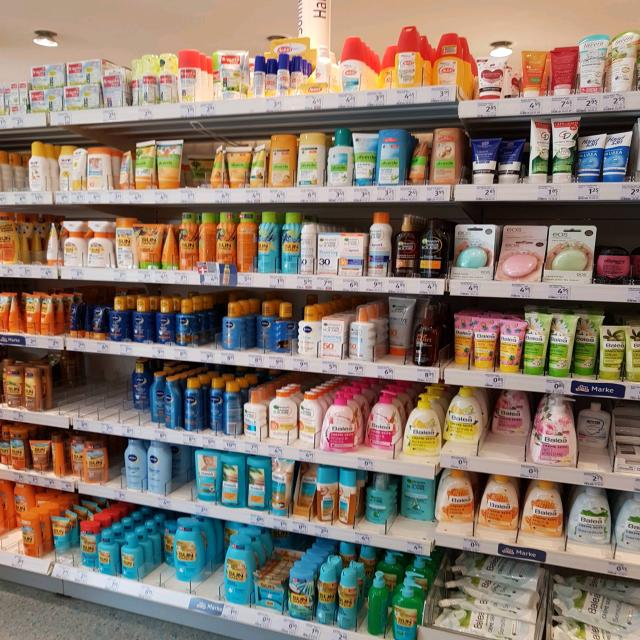void: (89, 352, 121, 438), (617, 409, 640, 495), (0, 137, 26, 210)
